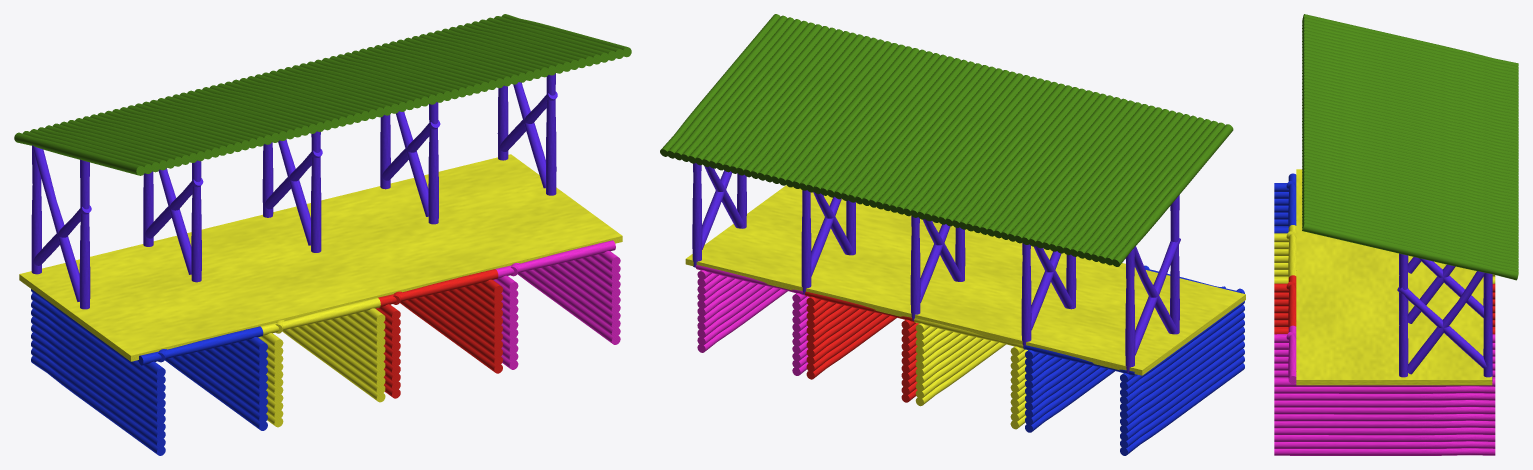
The model's file is garage-of-colors.glb.
3 views of the same model, side by side, from view 1: azimuth 30°, elevation 25°; view 2: azimuth 150°, elevation 25°; view 3: azimuth 270°, elevation 25° (orthographic). The views are drawn at different scales.
Visible parts, largest first — view 1: Cube, Cylinder121, Cylinder123, Cylinder134, Cylinder027, Cylinder117, Cylinder087, Cylinder057, Cylinder199, Cylinder203, Cylinder195, Cylinder191 (+105 smaller); view 2: Cube, Cylinder134, Cylinder138, Cylinder142, Cylinder147, Cylinder163, Cylinder169, Cylinder171, Cylinder133, Cylinder143, Cylinder168, Cylinder172 (+88 smaller); view 3: Cube, Cylinder179, Cylinder093, Cylinder094, Cylinder095, Cylinder096, Cylinder097, Cylinder092, Cylinder091, Cylinder100, Cylinder099, Cylinder098 (+76 smaller).
Boxes of the visible parts, x1,y1,x2,y2 form: Cube: (19,154,622,361); Cylinder121: (79,159,90,309); Cylinder123: (32,145,79,301); Cylinder134: (14,132,144,175); Cylinder027: (138,326,263,365); Cylinder117: (495,240,615,278); Cylinder087: (378,269,498,307); Cylinder057: (260,297,380,335); Cylinder199: (428,102,438,224); Cylinder203: (546,73,556,195); Cylinder195: (311,131,321,252); Cylinder191: (191,160,201,282); Cube: (685,185,1245,375); Cylinder134: (1112,124,1233,266); Cylinder138: (986,93,1106,236); Cylinder142: (1015,100,1134,243); Cylinder147: (896,71,1016,214); Cylinder163: (854,61,974,204); Cylinder169: (743,34,863,177); Cylinder171: (757,37,877,180); Cylinder133: (1104,122,1225,265); Cylinder143: (1021,102,1141,244); Cylinder168: (737,32,856,175); Cylinder172: (764,39,884,182); Cube: (1296,169,1492,385); Cylinder179: (1302,222,1518,280); Cylinder093: (1274,400,1495,407); Cylinder094: (1274,407,1495,414); Cylinder095: (1274,414,1495,421); Cylinder096: (1274,420,1495,428); Cylinder097: (1274,427,1495,435); Cylinder092: (1274,393,1495,400); Cylinder091: (1274,386,1495,393); Cylinder100: (1274,448,1495,455); Cylinder099: (1274,441,1495,448); Cylinder098: (1274,434,1495,441).
Size of the model in its own units: 25.78 by 13.59 by 12.31.
Materials: 6 (6 with a texture image).
